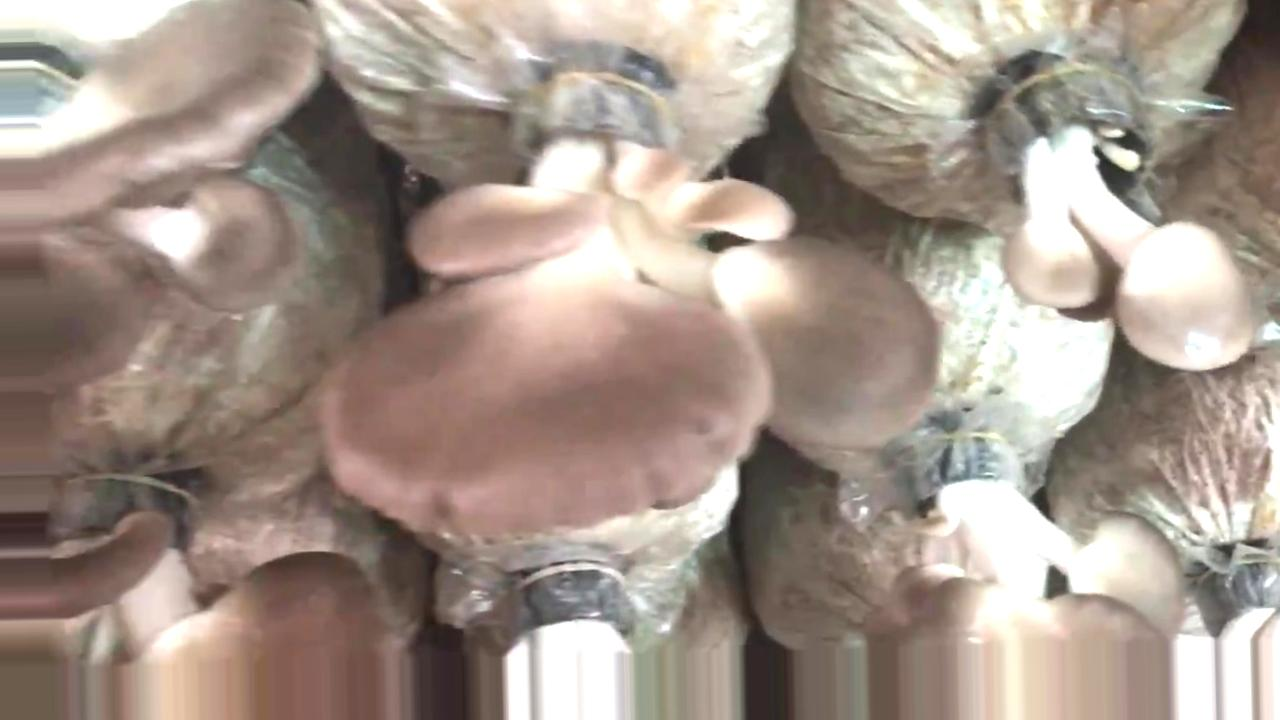nam: (324, 41, 941, 528), (2, 1, 321, 393), (1, 471, 385, 715), (868, 432, 1178, 720), (995, 56, 1252, 367)
